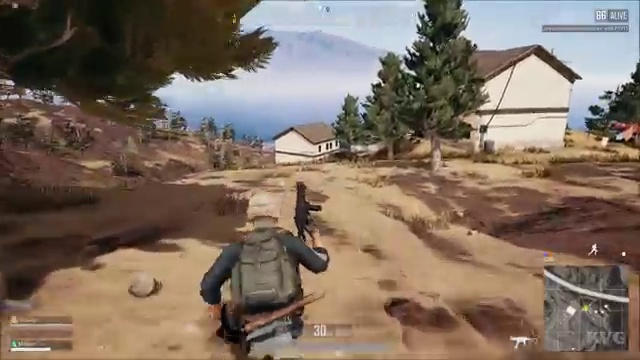Player: (207, 176, 350, 314)
